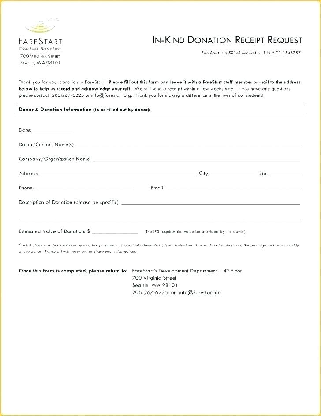textline: (19, 208, 303, 222), (91, 153, 299, 164), (76, 139, 302, 149), (39, 167, 198, 179), (120, 198, 303, 207), (166, 183, 303, 193), (34, 183, 136, 193), (209, 167, 256, 179), (91, 227, 138, 237), (32, 124, 74, 135), (270, 168, 303, 178)
